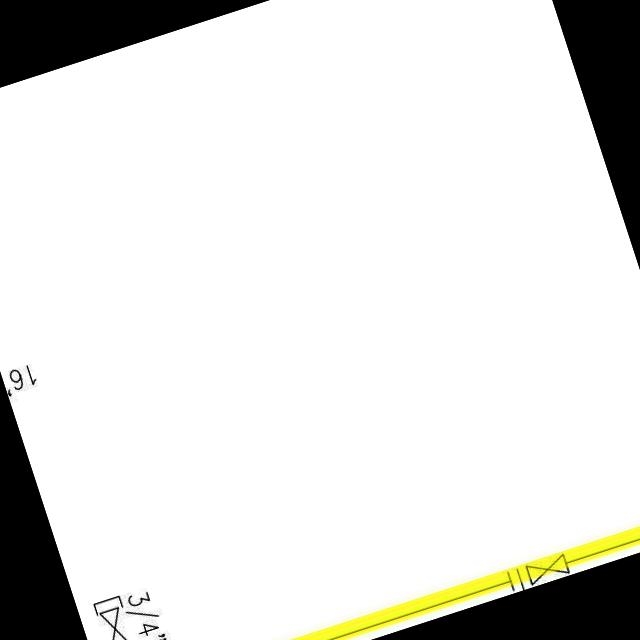EC: (87, 589, 148, 640)
GV: (523, 550, 573, 588), (98, 602, 133, 640)
